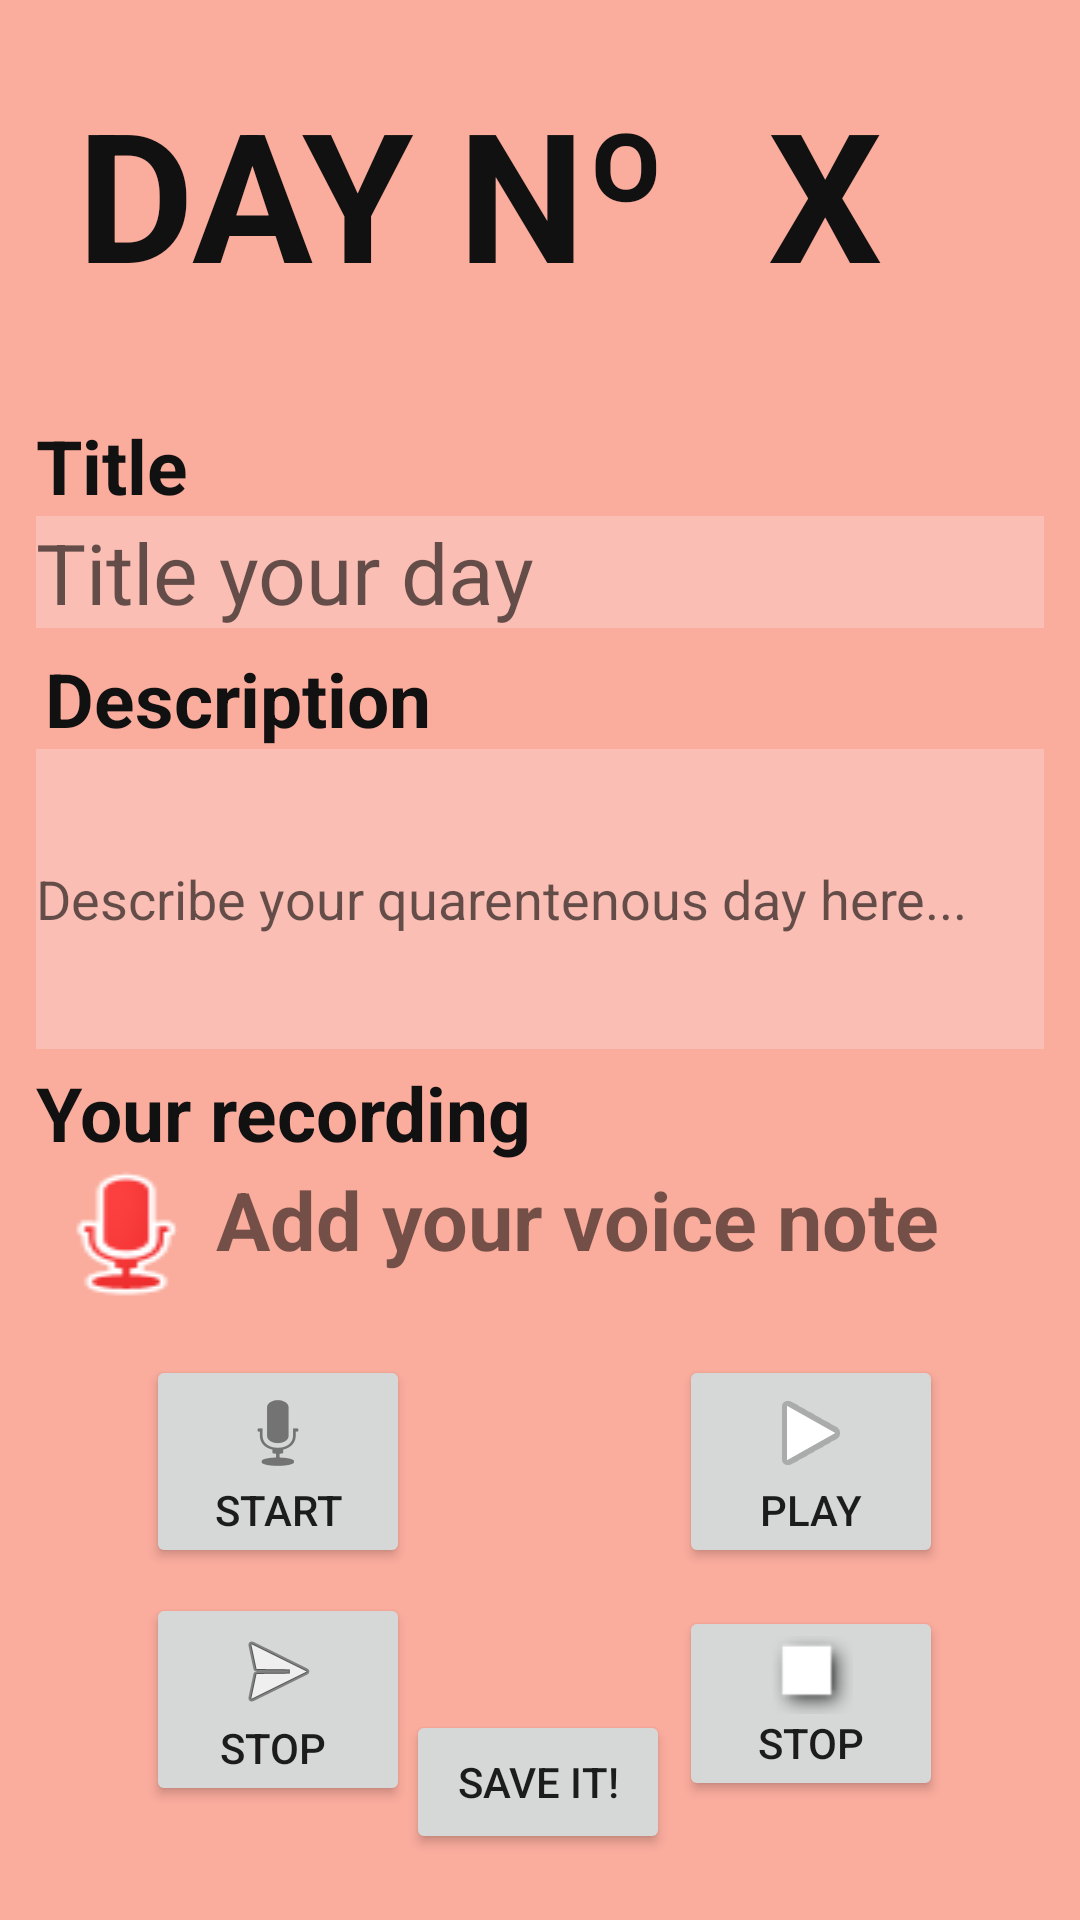

Screen size 1080 x 1920. Icon name, then its center in pixels as (x,y):
presence audio busy: (126,1234)
